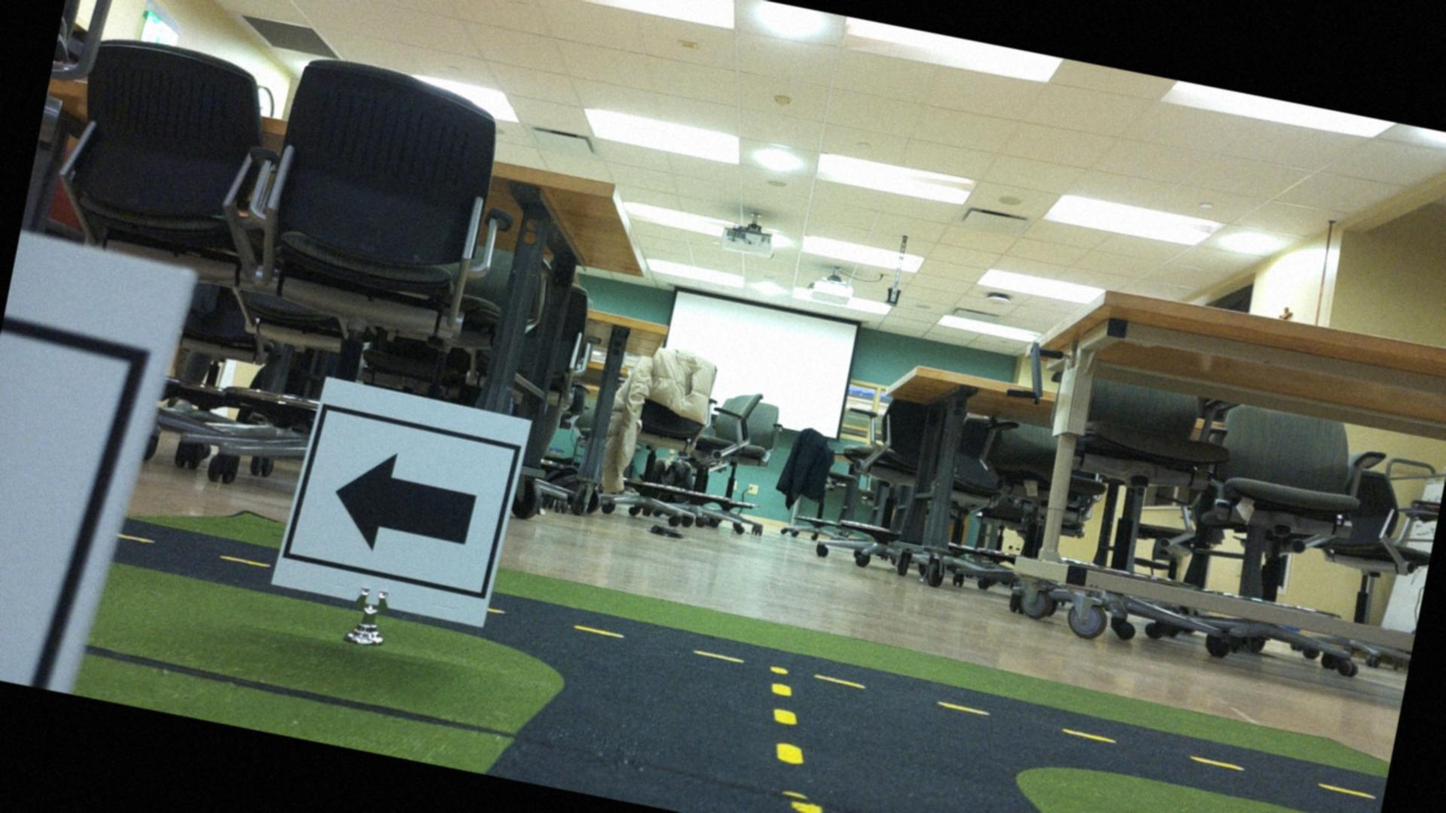turnleft: (284, 379, 519, 627)
yellowline: (572, 624, 1387, 799), (759, 684, 813, 768)
